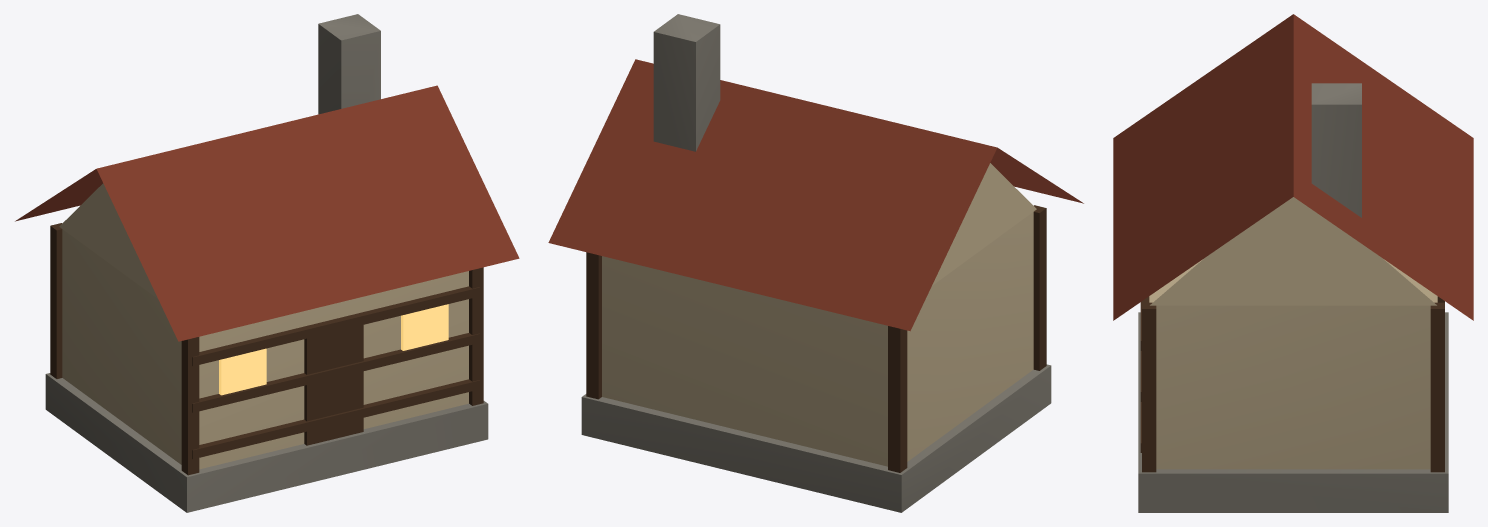
File: casa_a.glb
3 views of the same model, side by side, from view 1: azimuth 30°, elevation 25°; view 2: azimuth 150°, elevation 25°; view 3: azimuth 270°, elevation 25° (orthographic). The views are drawn at different scales.
Visible parts, largest first — view 1: Prop; view 2: Prop; view 3: Prop.
Boxes of the visible parts, <box> form: Prop: <box>15,14,519,512</box>; Prop: <box>548,14,1083,512</box>; Prop: <box>1113,14,1473,512</box>.
Size of the model in its own units: 6 by 6.01 by 5.
